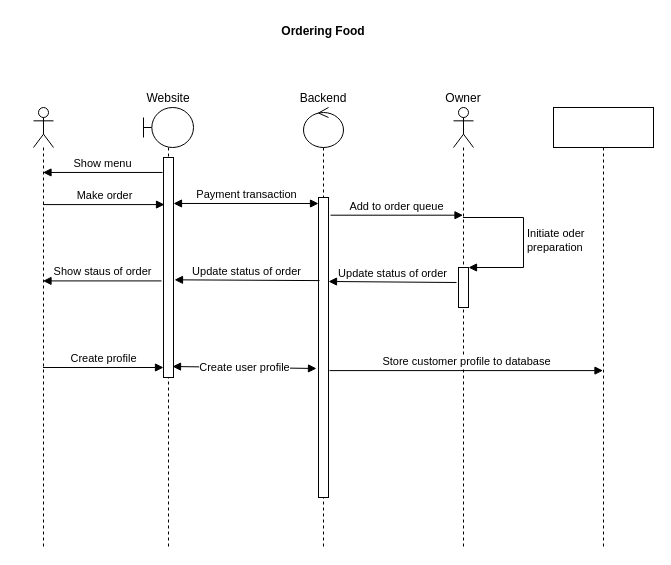
The diagram is 671 pixels wide and 565 high, and some of its shapes have lost their labels. The box of each missing label's shape, as (x1, y1, x2, y2) in pixels:
Customer: (32, 106, 54, 548)
Database: (552, 106, 654, 548)
